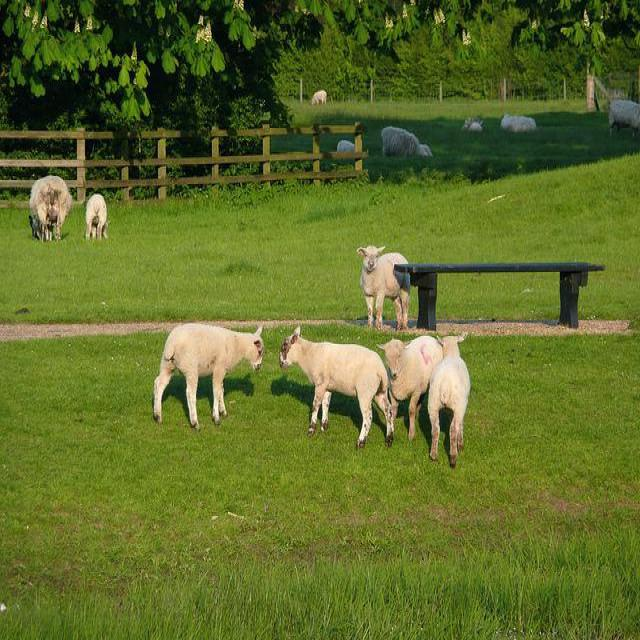Sheep: (279, 326, 394, 451), (152, 322, 265, 434), (377, 336, 443, 440), (429, 332, 474, 465), (357, 245, 410, 331), (30, 173, 73, 244)
